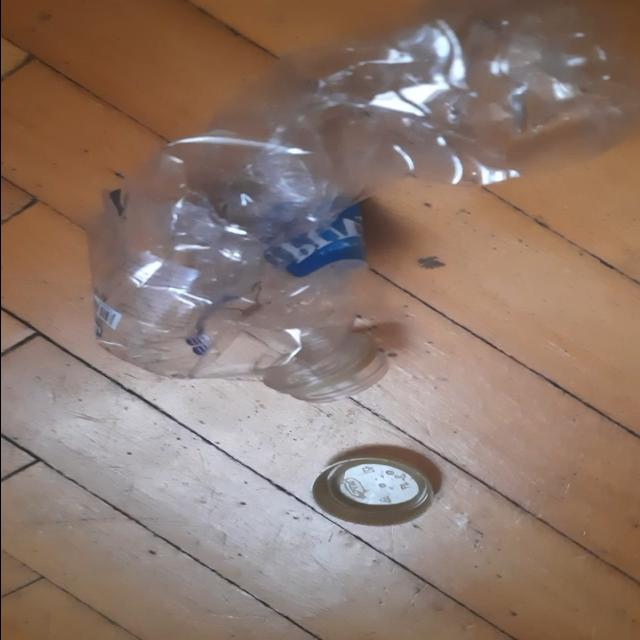Plastic: (91, 2, 639, 402), (91, 132, 392, 404)
